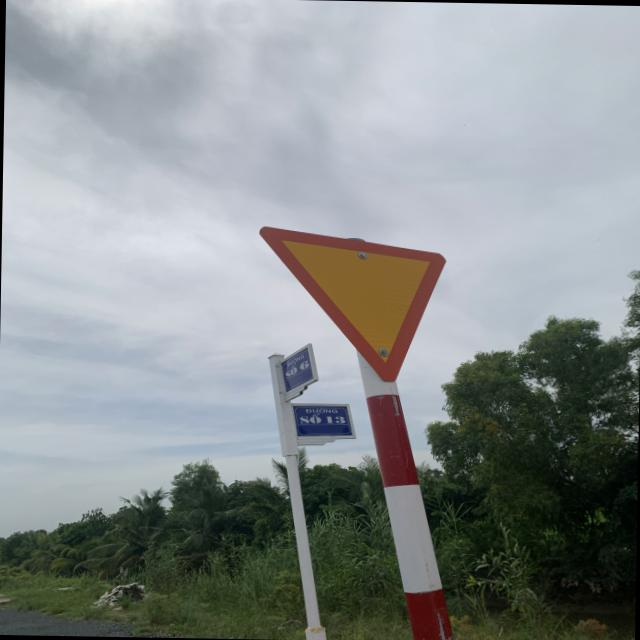Gioi_Han_Toc_Do_25: (256, 226, 446, 382)
